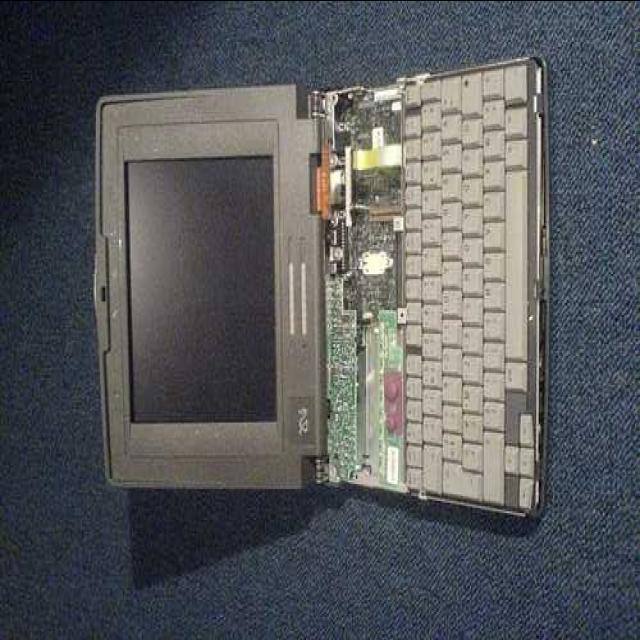laptop: (97, 86, 567, 524)
